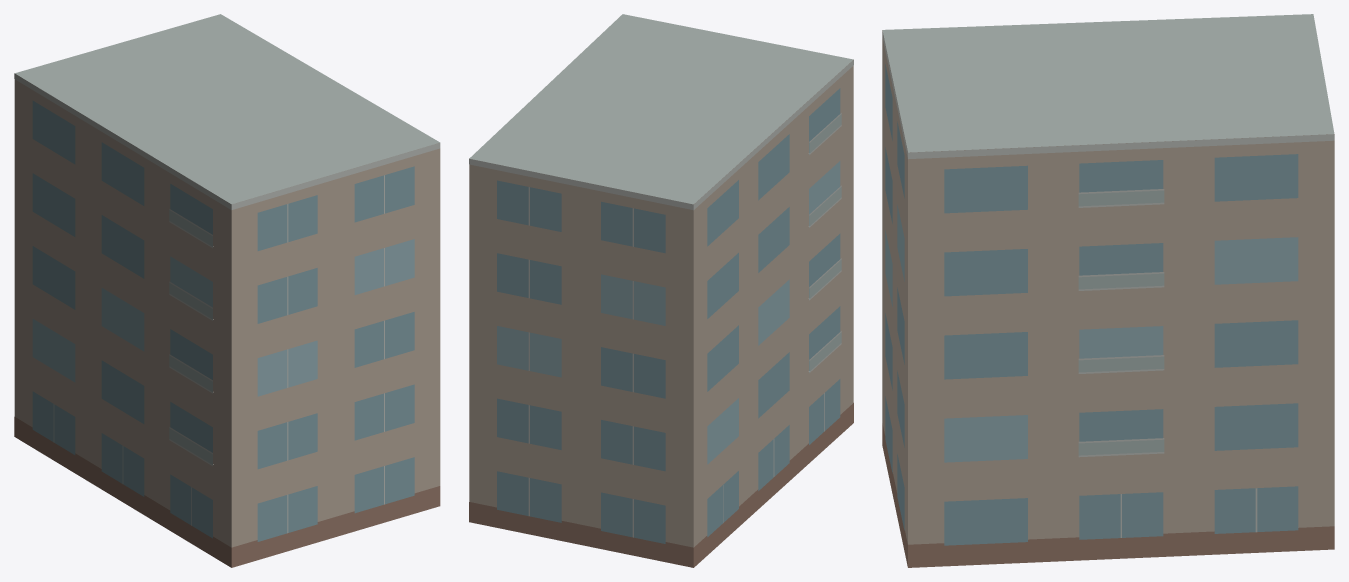
The model's file is survey-upis-32873789.glb.
3 views of the same model, side by side, from view 1: azimuth 30°, elevation 25°; view 2: azimuth 150°, elevation 25°; view 3: azimuth 270°, elevation 25° (orthographic). The views are drawn at different scales.
Parts seen in each view (by area): view 1: survey-upis-32873789.tmp; view 2: survey-upis-32873789.tmp; view 3: survey-upis-32873789.tmp.
Boxes of the visible parts, x1=… form: survey-upis-32873789.tmp: x1=14, y1=14, x2=440, y2=567; survey-upis-32873789.tmp: x1=469, y1=14, x2=853, y2=567; survey-upis-32873789.tmp: x1=882, y1=14, x2=1334, y2=567.
Size of the model in its own units: 10.92 by 15.25 by 15.05.
